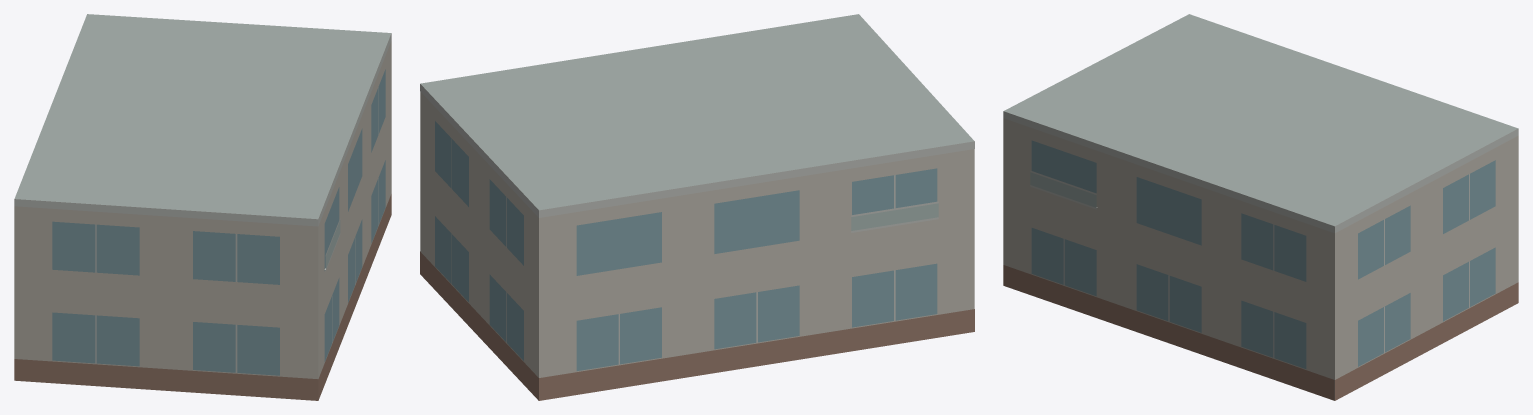
The model's file is survey-upis-32497071.glb.
3 renders of one model, left to right at view 1: azimuth 30°, elevation 25°; view 2: azimuth 150°, elevation 25°; view 3: azimuth 270°, elevation 25°, orthographic. The views are drawn at different scales.
Visible parts, largest first — view 1: survey-upis-32497071.tmp; view 2: survey-upis-32497071.tmp; view 3: survey-upis-32497071.tmp.
Part boxes in pixels (x1=…): survey-upis-32497071.tmp: x1=14, y1=14, x2=391, y2=400; survey-upis-32497071.tmp: x1=420, y1=14, x2=974, y2=400; survey-upis-32497071.tmp: x1=1003, y1=14, x2=1518, y2=400.
Bounding box in the file's own units: 15.93 × 6.1 × 16.33.
